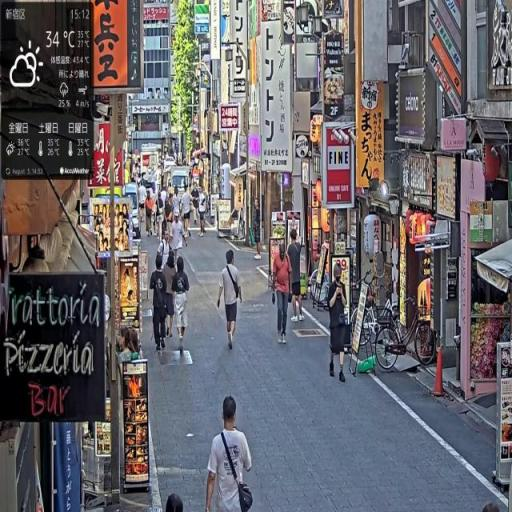person: (205, 395, 254, 512), (217, 248, 244, 352), (328, 263, 351, 385), (271, 237, 293, 347), (149, 255, 171, 355), (172, 255, 193, 358), (287, 231, 304, 326), (163, 251, 179, 342), (252, 200, 264, 261), (182, 184, 194, 243), (197, 183, 209, 238)
